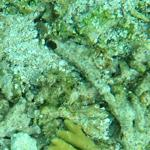dead: (7, 2, 147, 146)
